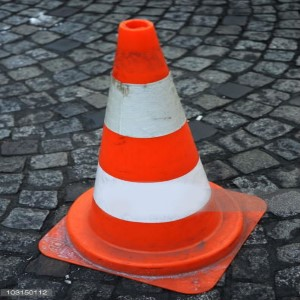traffic cone: (37, 18, 267, 295)
